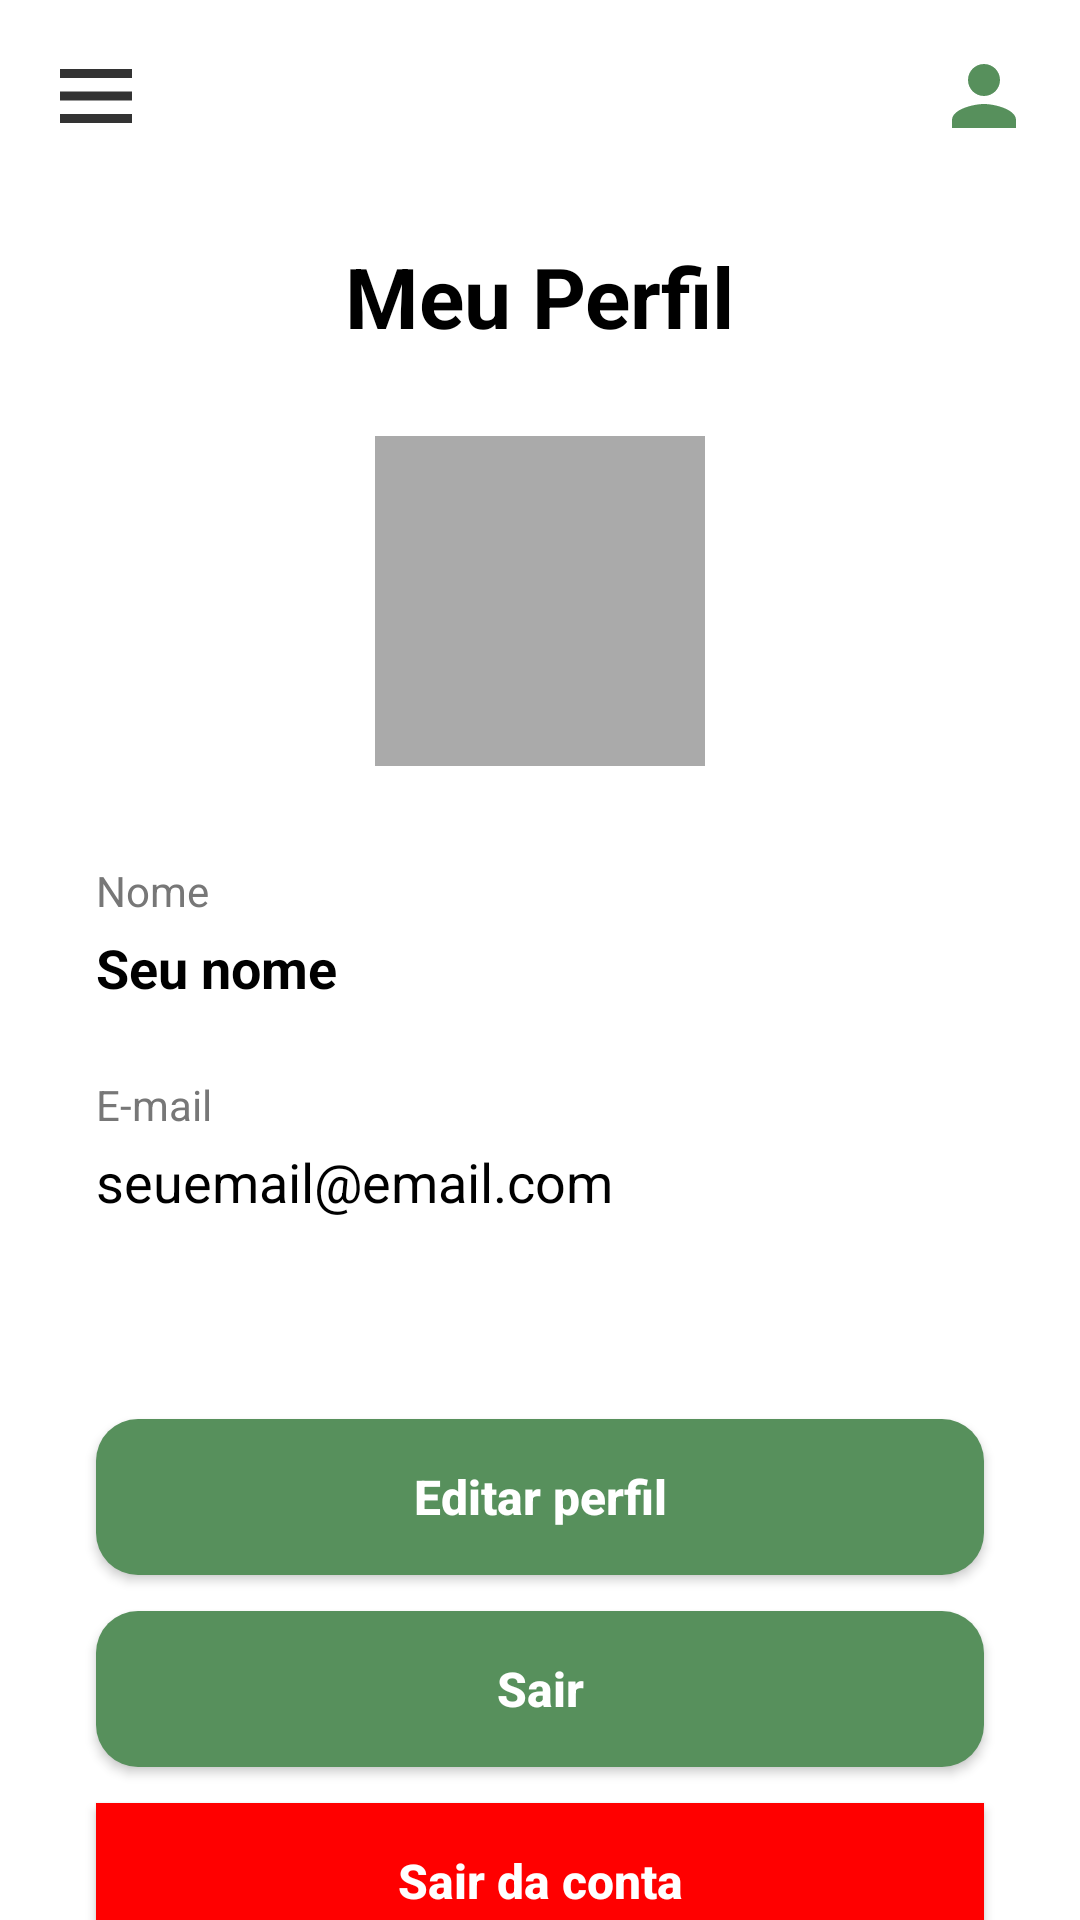

Icons on this 1080px x 1920px Android screen, each with the point to tap as point (x, y):
Abrir menu: point (96, 96)
Perfil: point (984, 96)
